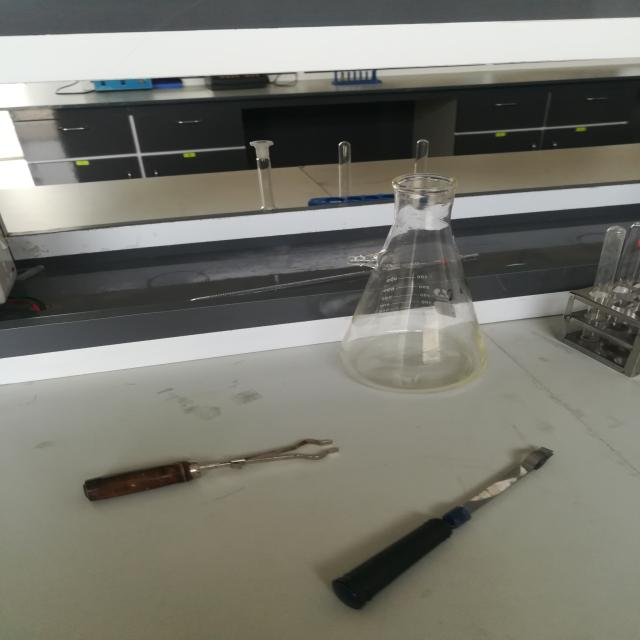Conical_Flask: (308, 156, 528, 402)
TestTube_Holder: (287, 418, 603, 632), (55, 421, 372, 518)
